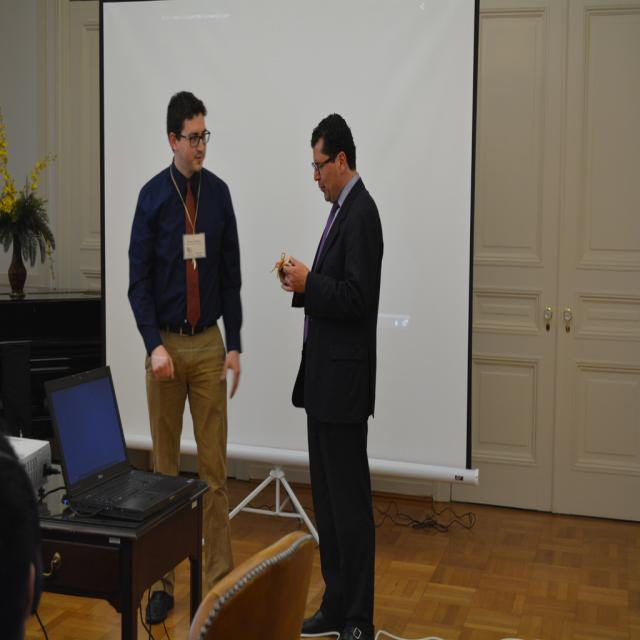chair: (186, 528, 316, 636)
desk: (42, 487, 206, 634)
laptop: (43, 362, 203, 526)
person: (127, 89, 244, 598), (276, 111, 384, 632), (0, 439, 44, 636)
